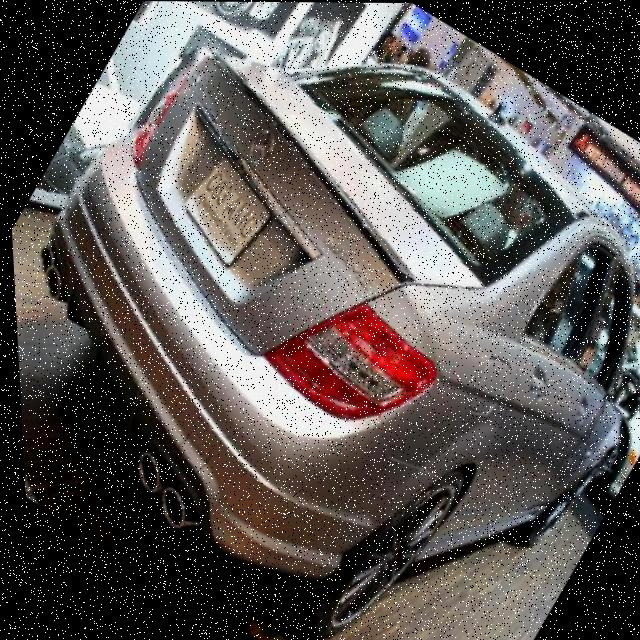license_plate: (163, 152, 284, 272)
